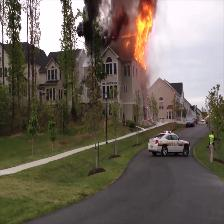fire: (135, 12, 150, 67)
smoke: (84, 1, 127, 41)
